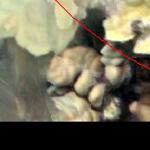alive: (3, 1, 149, 119)
